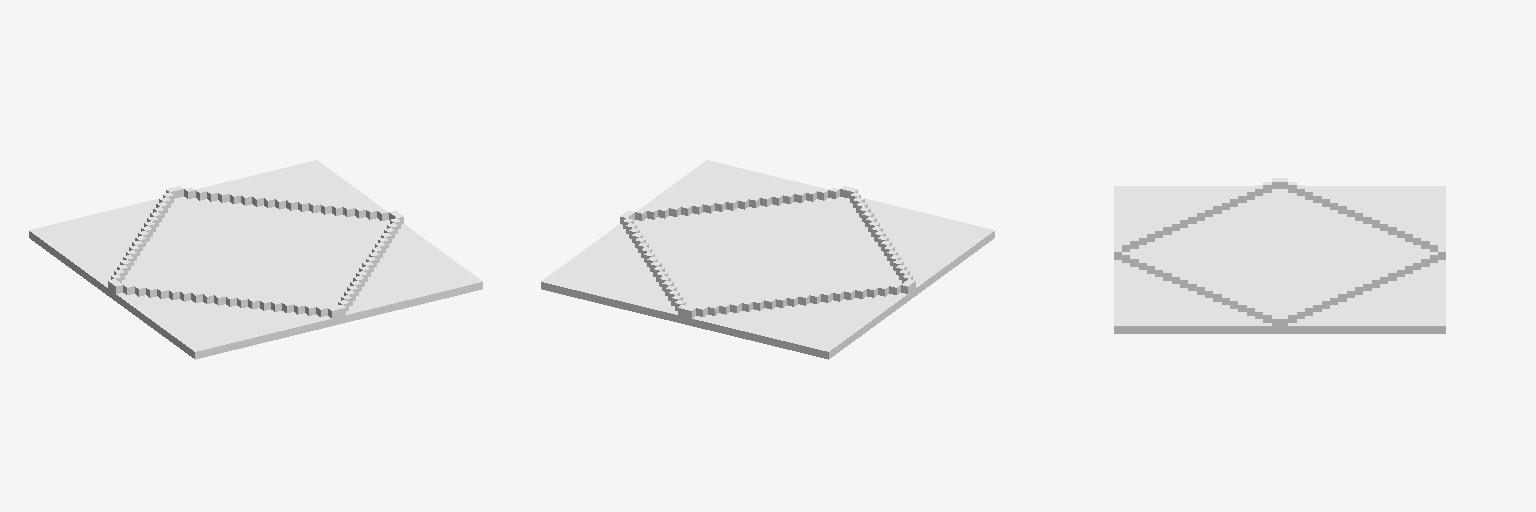
Rendered from floor_part.obj.
3 renders of one model, left to right at view 1: azimuth 30°, elevation 25°; view 2: azimuth 150°, elevation 25°; view 3: azimuth 270°, elevation 25°, orthographic.
Visible parts, largest first — view 1: object 1; view 2: object 1; view 3: object 1.
Part boxes in pixels (x1,y1,x2,y2): object 1: (29,160,482,359); object 1: (541,160,994,359); object 1: (1114,178,1445,333).
Size of the model in its own units: 4 by 0.2 by 4.